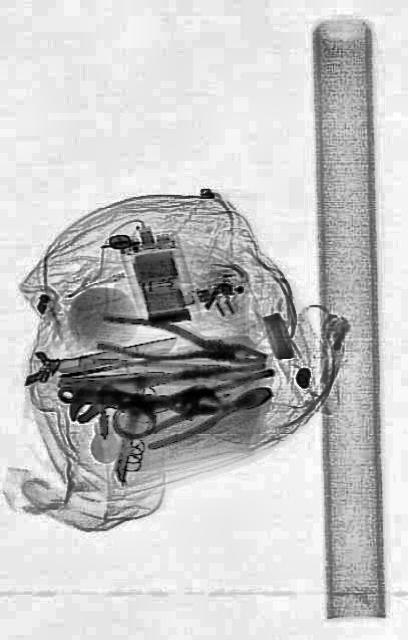Pliers: (94, 306, 268, 378), (144, 378, 274, 450)
